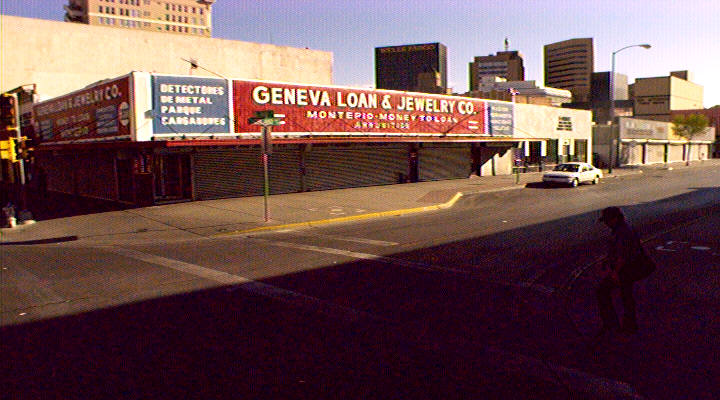Ramp: (1, 219, 276, 247)
